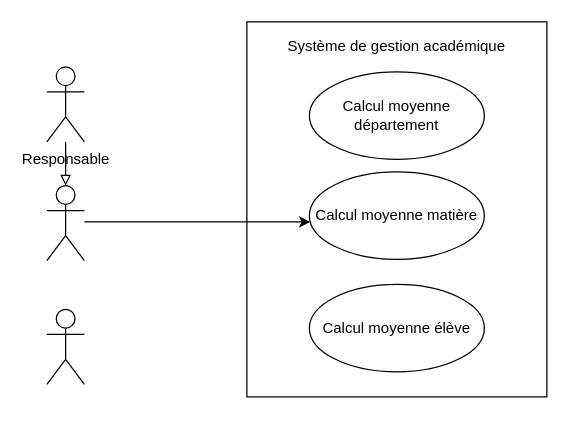
The diagram is 569 pixels wide and 433 high, and some of its shapes have lost their labels. Here are the shapes that lost their labels. From the top down, the box of each, then its label:
(46, 184, 84, 261): Enseignant
(46, 308, 84, 384): Etudiant
